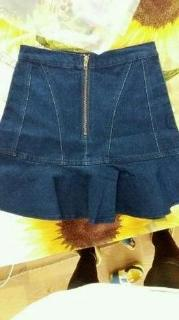skirt: (0, 41, 178, 225)
